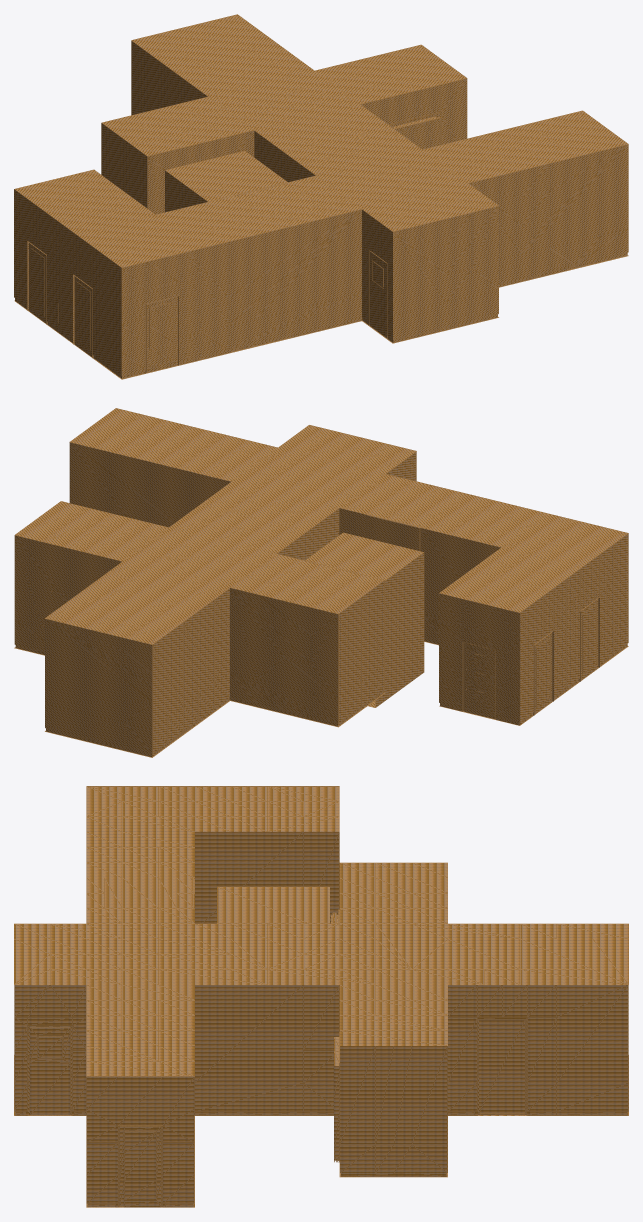
Rendered from corridor_baru.glb.
3 views of the same model, one above another, from view 1: azimuth 30°, elevation 25°; view 2: azimuth 150°, elevation 25°; view 3: azimuth 270°, elevation 25° (orthographic). The views are drawn at different scales.
Parts seen in each view (by area): view 1: BackSide_0; view 2: BackSide_0; view 3: BackSide_0.
Part boxes in pixels (left/top/right/bottom): BackSide_0: left=14, top=14, right=628, bottom=379; BackSide_0: left=14, top=408, right=628, bottom=757; BackSide_0: left=14, top=786, right=628, bottom=1207.
Size of the model in its own units: 19.73 by 4.94 by 17.63.
Materials: 10 (10 with a texture image).
